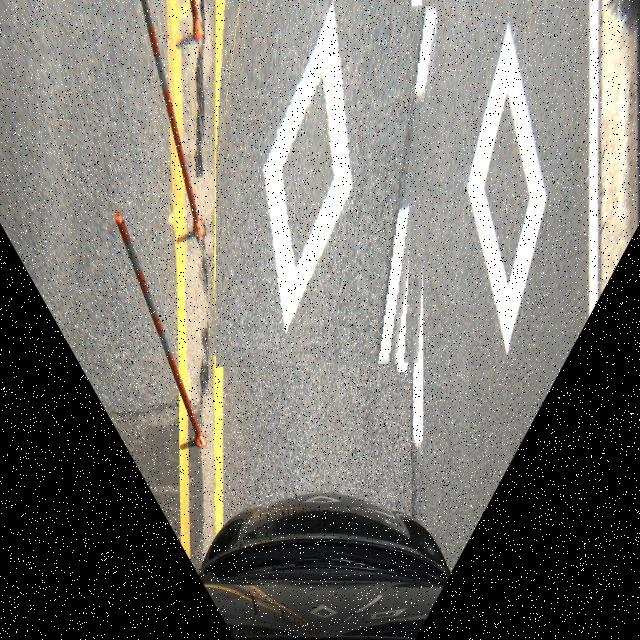diamond: (216, 0, 437, 368)
